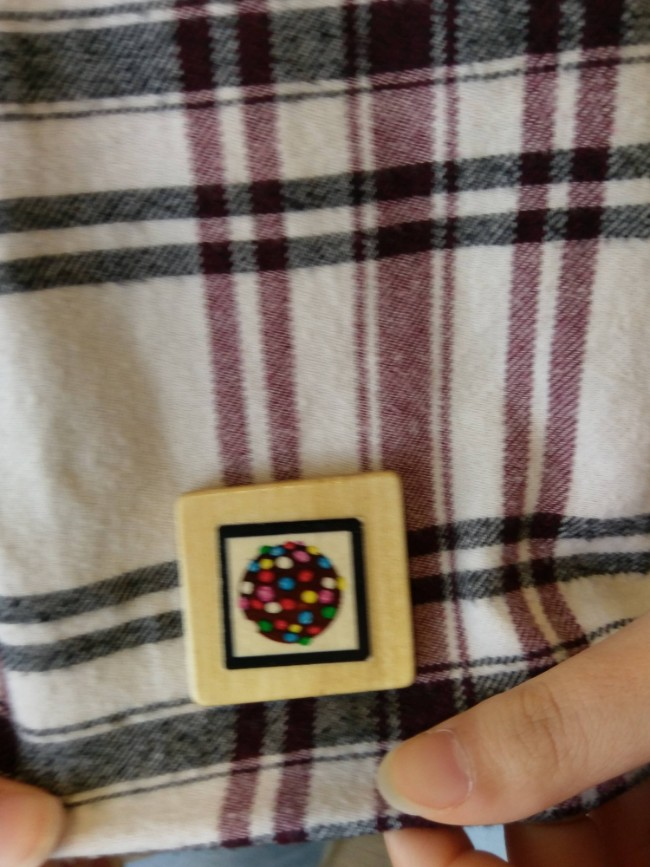cookie: (206, 497, 390, 682)
